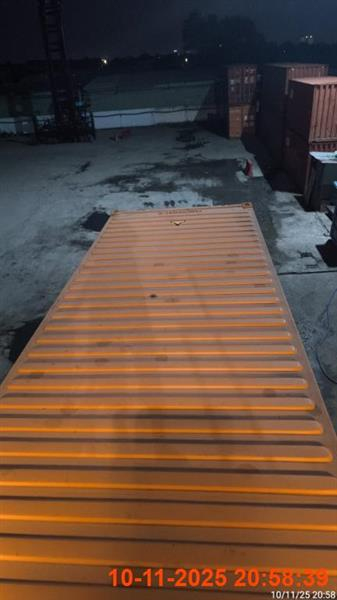broken: (0, 200, 336, 598)
